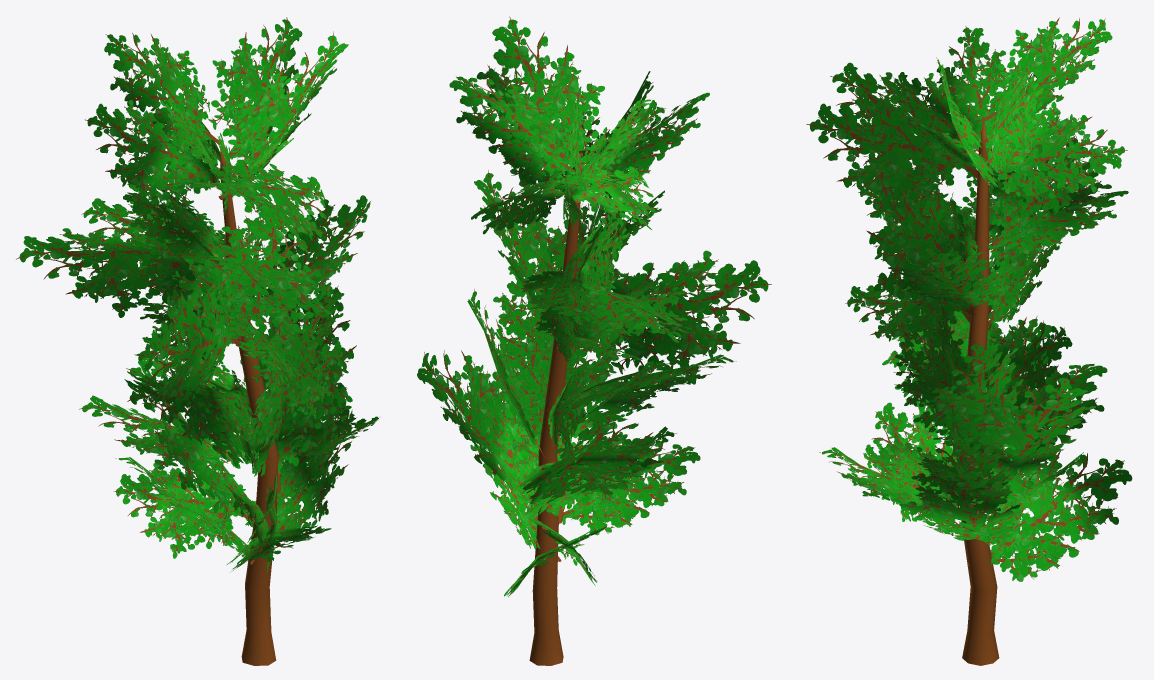
File: Tall_Tree.fbx
The picture shows the model from 3 angles, left to right: view 1: azimuth 30°, elevation 25°; view 2: azimuth 150°, elevation 25°; view 3: azimuth 270°, elevation 25°; orthographic projection.
Visible parts, largest first — view 1: Tall_Tree; view 2: Tall_Tree; view 3: Tall_Tree.
Boxes of the visible parts, x1=… form: Tall_Tree: x1=16, y1=17, x2=378, y2=665; Tall_Tree: x1=417, y1=16, x2=771, y2=665; Tall_Tree: x1=806, y1=17, x2=1132, y2=665.
Size of the model in its own units: 519 by 1051 by 512.
